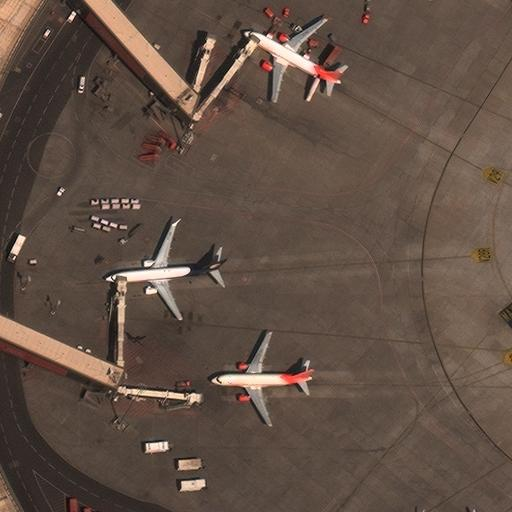Medium Civil Transport: (105, 222, 227, 320), (210, 332, 313, 426), (243, 18, 340, 100)
